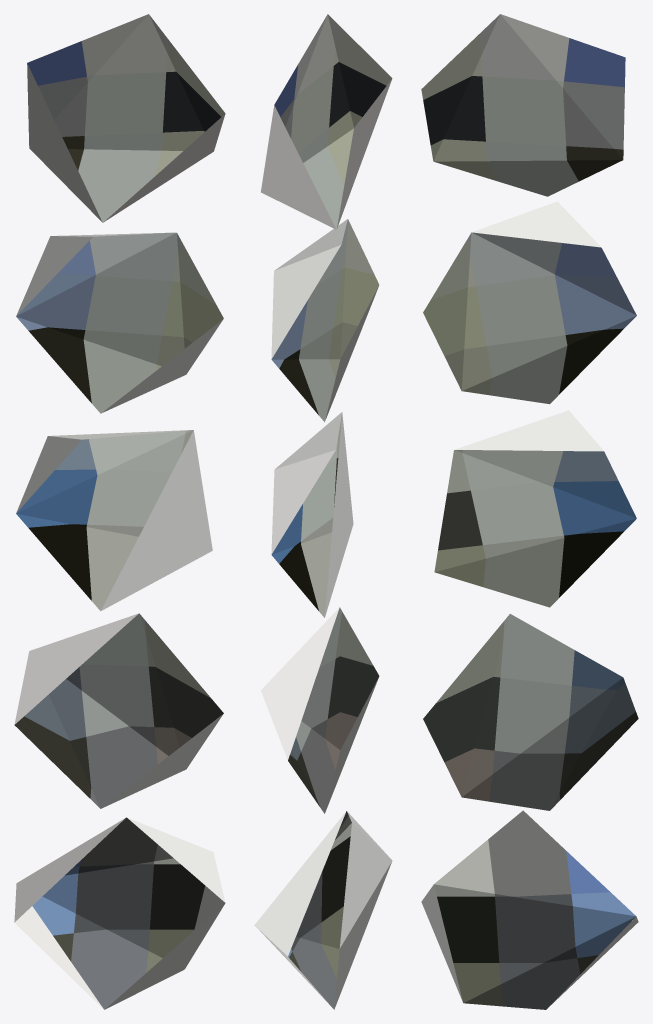
The model's file is wdj005-geode.glb.
3 renders of one model, left to right at view 1: azimuth 90°, elevation 25°; view 2: azimuth 150°, elevation 25°; view 3: azimuth 270°, elevation 25°, orthographic. The views are drawn at different scales.
Visible parts, largest first — view 1: Node; view 2: Node; view 3: Node.
Part boxes in pixels (box(x1,y1,x2,y2)): Node: box(14, 14, 225, 1009); Node: box(254, 14, 392, 1009); Node: box(421, 14, 638, 1009).
Bounding box in the file's own units: 0.041 × 0.7768 × 0.1514.
1 material, 1 textured.
